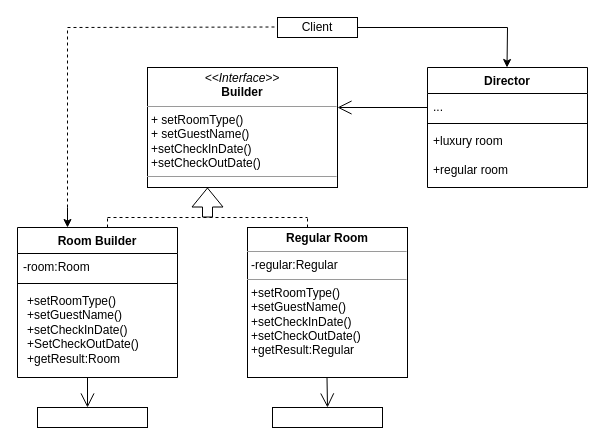
This 605x445 diagram has some shape labels left out. Here are the shapes that lost their labels. From the top down, the centre of each, then its label:
[92,417]: Room
[327,417]: Regular
